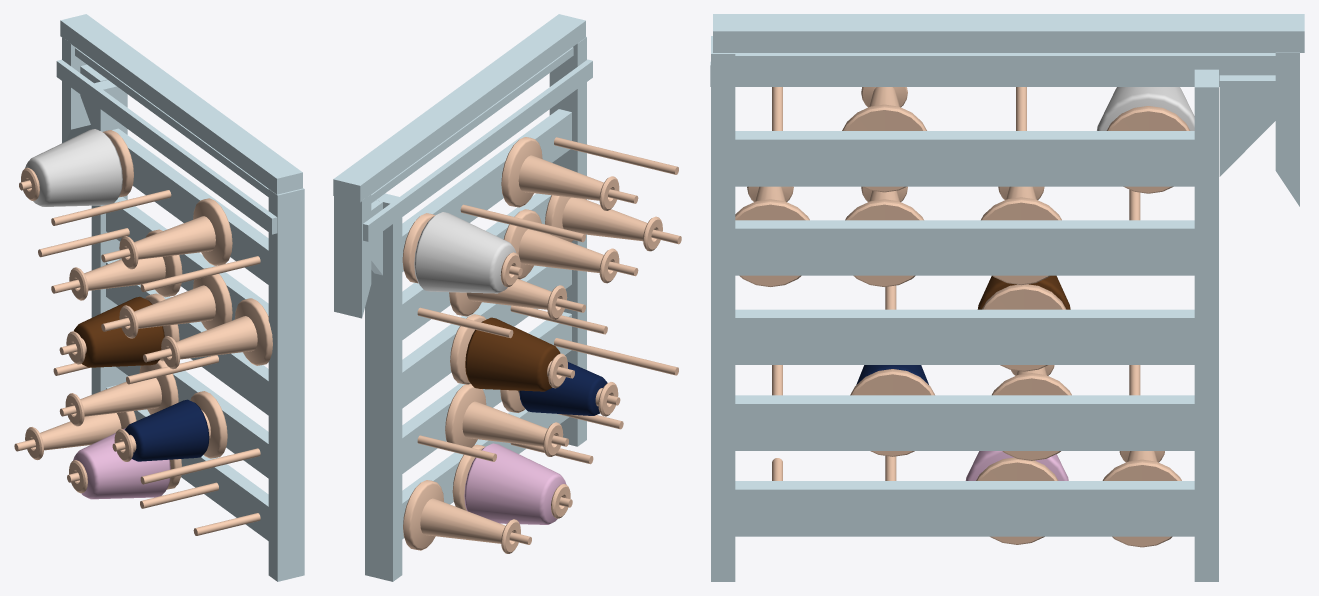
The model's file is bobbinholder1.fbx.
3 views of the same model, side by side, from view 1: azimuth 30°, elevation 25°; view 2: azimuth 150°, elevation 25°; view 3: azimuth 270°, elevation 25° (orthographic). The views are drawn at different scales.
Parts seen in each view (by area): view 1: Bobbin_with_tread12; view 2: Bobbin_with_tread12; view 3: Bobbin_with_tread12.
Part boxes in pixels (box(x1,y1,x2,y2)): Bobbin_with_tread12: box(14, 14, 304, 581); Bobbin_with_tread12: box(333, 14, 681, 581); Bobbin_with_tread12: box(710, 14, 1304, 581).
Bounding box in the file's own units: 25.87 × 72.33 × 70.79.
